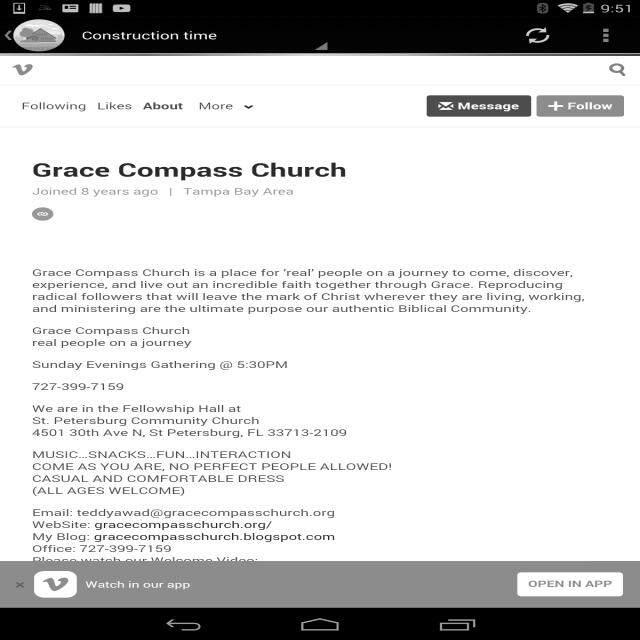Button: (427, 95, 532, 117), (537, 95, 625, 117), (0, 56, 45, 84), (7, 567, 34, 604)
CheckBox: (0, 619, 640, 640)
ImageButton: (571, 16, 640, 54)
ImageView: (14, 19, 64, 52), (0, 30, 17, 41)
Spinner: (69, 17, 332, 54)
TextView: (73, 19, 226, 52), (503, 17, 572, 54)
